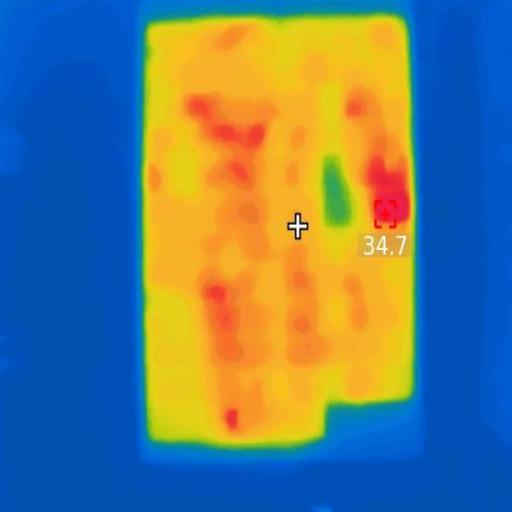hotspot: (180, 98, 274, 193), (355, 149, 413, 233), (198, 274, 241, 360), (220, 401, 242, 434), (348, 92, 372, 120)
